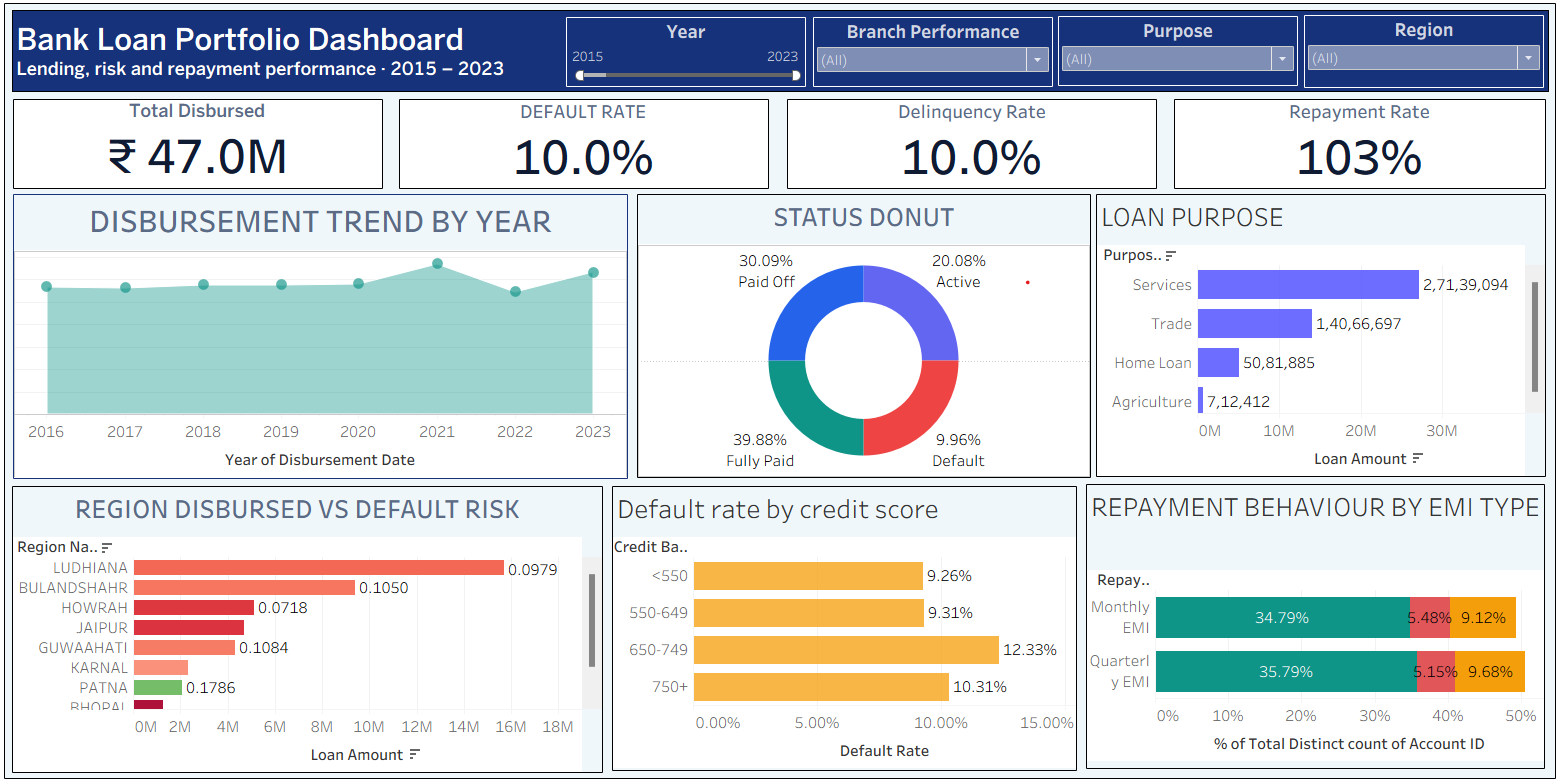

What the dashboard file says about the page in this screenshot:
{"tool":"tableau","page":{"name":"Dashboard 1","canvas":[1600,850],"ordinal":0},"visuals":[{"type":"text","box":[12,12,1537,82]},{"type":"filter","title":"DISBURSEMENT TREND BY YEAR","param":"[federated.0fzh3yg1w1js8e10lgtws0ke5ie8].[none:Region Name:nk]","box":[1304,17,240,73]},{"type":"filter","title":"DISBURSEMENT TREND BY YEAR","param":"[federated.0fzh3yg1w1js8e10lgtws0ke5ie8].[none:Purpose Category:nk]","box":[1058,18,240,70]},{"type":"filter","title":"DISBURSEMENT TREND BY YEAR","param":"[federated.0fzh3yg1w1js8e10lgtws0ke5ie8].[tyr:Disbursement Date:qk]","box":[566,19,240,70]},{"type":"filter","title":"DISBURSEMENT TREND BY YEAR","param":"[federated.0fzh3yg1w1js8e10lgtws0ke5ie8].[none:Branch Performance Category:nk]","box":[813,19,240,70]},{"type":"worksheet","title":"KPI DISBURSED","mark":"Automatic","box":[13,101,370,90]},{"type":"worksheet","title":"KPI DEFAULT","mark":"Automatic","box":[399,101,370,90]},{"type":"worksheet","title":"KPI DELINQUENCY","mark":"Automatic","box":[787,101,370,90]},{"type":"worksheet","title":"KPI  REPAYMENT","mark":"Automatic","box":[1174,101,372,90]},{"type":"worksheet","title":"DISBURSEMENT TREND BY YEAR","mark":"Area","rows":["Loan Amount","Loan Amount"],"cols":["Disbursement Date"],"box":[13,196,615,285]},{"type":"worksheet","title":"Status donut","mark":"Pie","rows":["Calculation_1446781433895387140","Calculation_1446781433895387140"],"box":[637,196,454,284]},{"type":"worksheet","title":"LOAN PURPOSE","mark":"Bar","rows":["Purpose Category"],"cols":["Loan Amount"],"box":[1096,196,450,283]},{"type":"worksheet","title":"REPAYMENT BEHAVIOUR BY EMI TYPE","mark":"Automatic","rows":["Repayment Type"],"box":[1086,486,459,285]},{"type":"worksheet","title":"REGION DISBURSED VS DEFAULT RISK","mark":"Automatic","rows":["Region Name"],"cols":["Loan Amount"],"box":[12,488,591,287]},{"type":"worksheet","title":"Default rate by credit score","mark":"Bar","rows":["Calculation_205476788692725760"],"cols":["Calculation_1446781433887281153"],"box":[612,488,465,285]}]}

Visuals, with their boxes on the page's 1600x850 design canvas (x1, y1, x2, y2). These are canvas units, not pixel positions in the 1557x781 screenshot, which may show the page scaled, cropped or inside an application window:
text: x1=12, y1=12, x2=1549, y2=94
"DISBURSEMENT TREND BY YEAR" filter: x1=1304, y1=17, x2=1544, y2=90
"DISBURSEMENT TREND BY YEAR" filter: x1=1058, y1=18, x2=1298, y2=88
"DISBURSEMENT TREND BY YEAR" filter: x1=566, y1=19, x2=806, y2=89
"DISBURSEMENT TREND BY YEAR" filter: x1=813, y1=19, x2=1053, y2=89
"KPI DISBURSED" worksheet: x1=13, y1=101, x2=383, y2=191
"KPI DEFAULT" worksheet: x1=399, y1=101, x2=769, y2=191
"KPI DELINQUENCY" worksheet: x1=787, y1=101, x2=1157, y2=191
"KPI  REPAYMENT" worksheet: x1=1174, y1=101, x2=1546, y2=191
"DISBURSEMENT TREND BY YEAR" worksheet (Area marks): x1=13, y1=196, x2=628, y2=481
"Status donut" worksheet (Pie marks): x1=637, y1=196, x2=1091, y2=480
"LOAN PURPOSE" worksheet (Bar marks): x1=1096, y1=196, x2=1546, y2=479
"REPAYMENT BEHAVIOUR BY EMI TYPE" worksheet: x1=1086, y1=486, x2=1545, y2=771
"REGION DISBURSED VS DEFAULT RISK" worksheet: x1=12, y1=488, x2=603, y2=775
"Default rate by credit score" worksheet (Bar marks): x1=612, y1=488, x2=1077, y2=773
